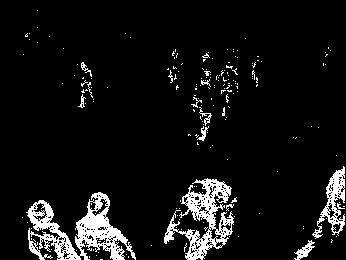person: (73, 189, 139, 260), (25, 198, 80, 260), (189, 66, 217, 145), (216, 60, 243, 118), (75, 58, 96, 109)
